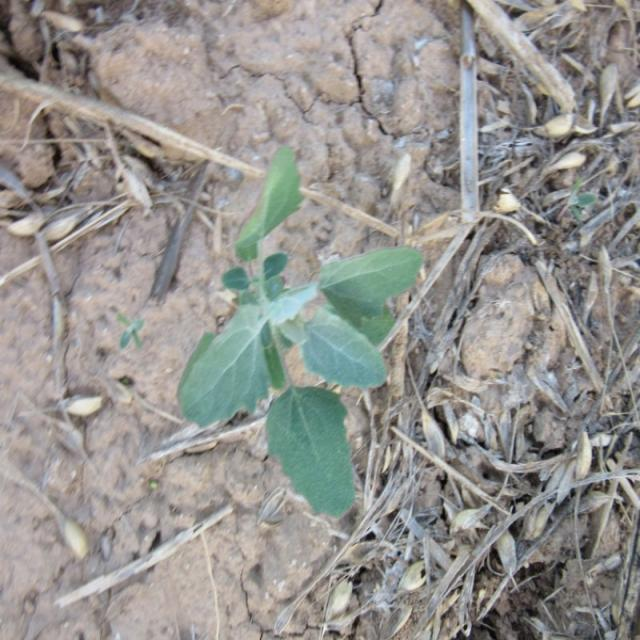ca: (178, 140, 417, 517)
